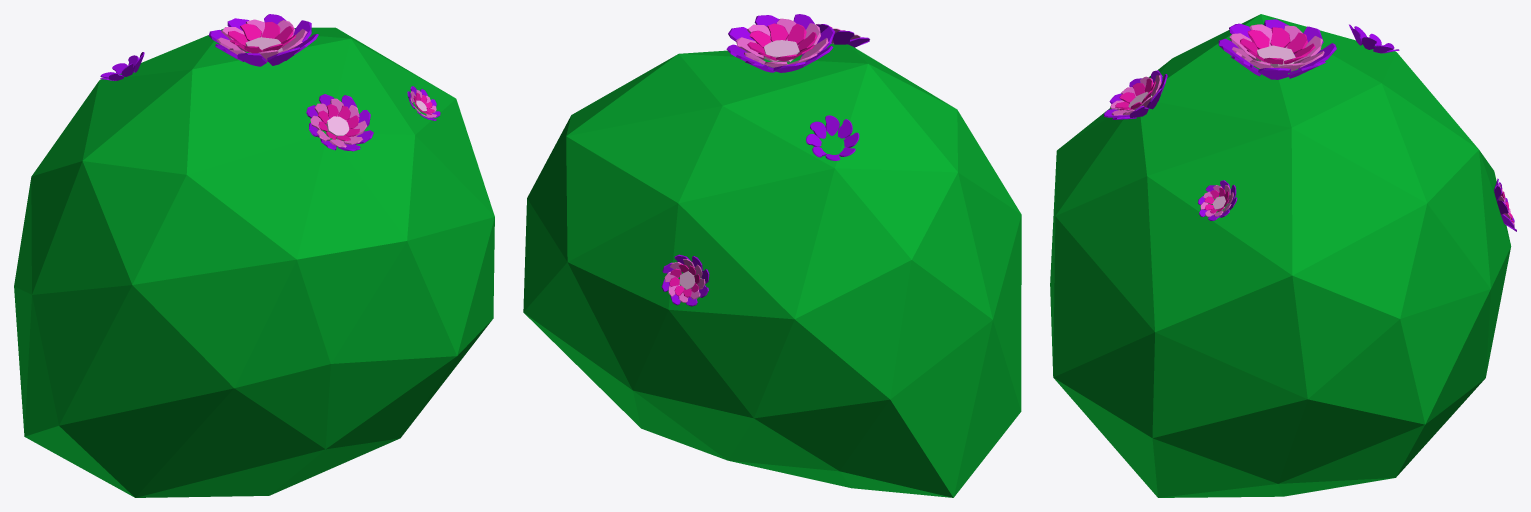
Rendered from zbun 4.fbx.
3 views of the same model, side by side, from view 1: azimuth 30°, elevation 25°; view 2: azimuth 150°, elevation 25°; view 3: azimuth 270°, elevation 25° (orthographic). The views are drawn at different scales.
Parts seen in each view (by area): view 1: Cylinder.057; view 2: Cylinder.057; view 3: Cylinder.057.
Part boxes in pixels (left/top/right/bottom): Cylinder.057: left=14, top=14, right=494, bottom=497; Cylinder.057: left=523, top=14, right=1021, bottom=497; Cylinder.057: left=1050, top=14, right=1516, bottom=497.
Size of the model in its own units: 488 by 470 by 428.
